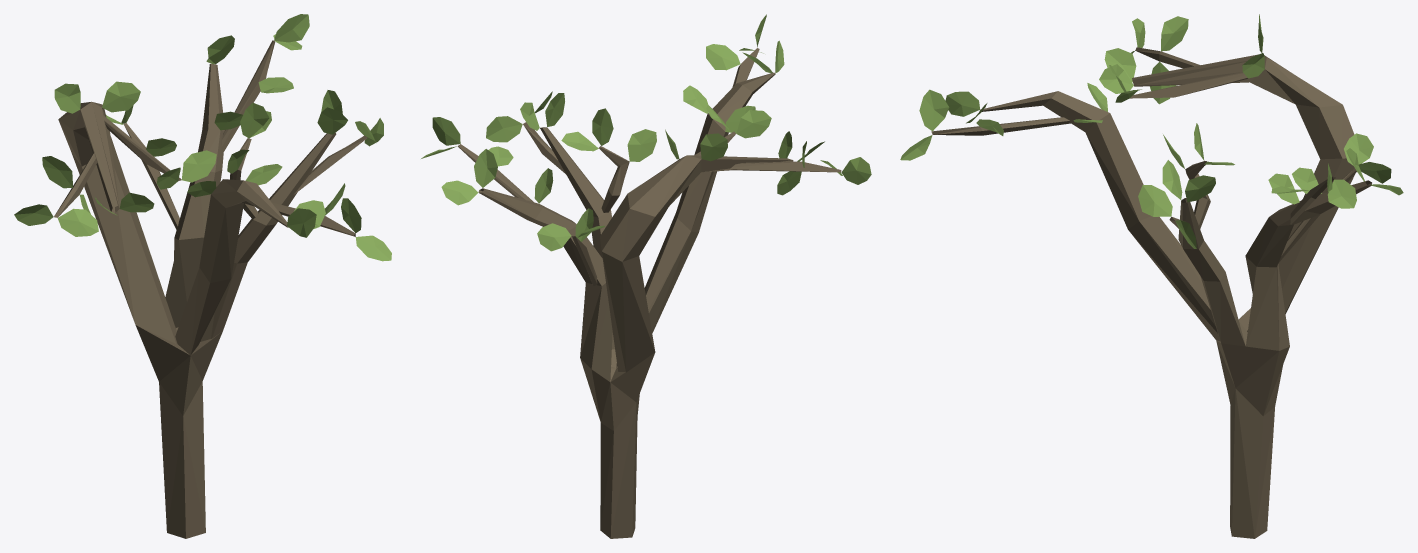
File: Cherry_3.5_2.fbx
3 renders of one model, left to right at view 1: azimuth 30°, elevation 25°; view 2: azimuth 150°, elevation 25°; view 3: azimuth 270°, elevation 25°, orthographic. The views are drawn at different scales.
Visible parts, largest first — view 1: Cherry_3_5_2; view 2: Cherry_3_5_2; view 3: Cherry_3_5_2.
Boxes of the visible parts, box(x1,y1,x2,y2) form: Cherry_3_5_2: box(14, 14, 391, 538); Cherry_3_5_2: box(421, 14, 871, 538); Cherry_3_5_2: box(900, 14, 1403, 538).
Size of the model in its own units: 269 by 304 by 301.
